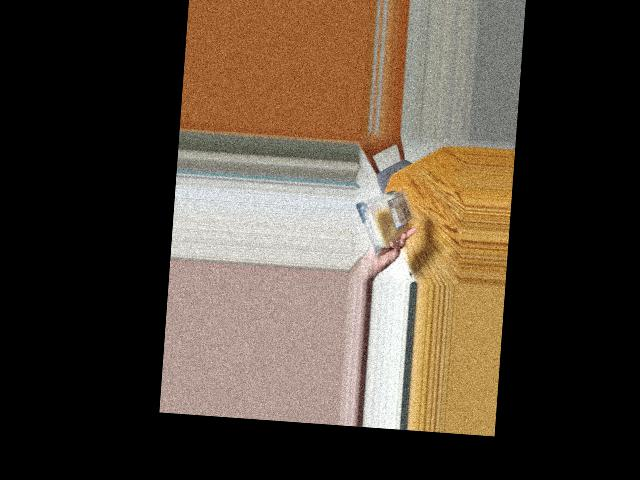cheese: (357, 186, 407, 255)
